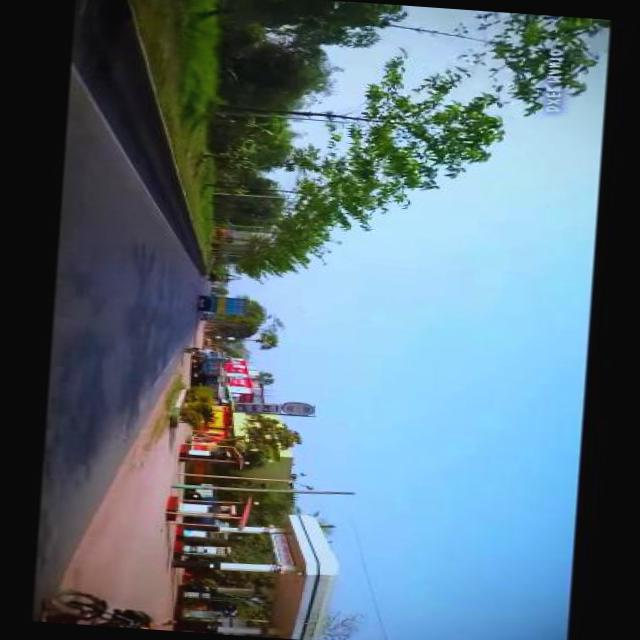motorcycle: (178, 346, 215, 358)
truck: (197, 295, 250, 318), (193, 354, 228, 376), (213, 226, 237, 246)
